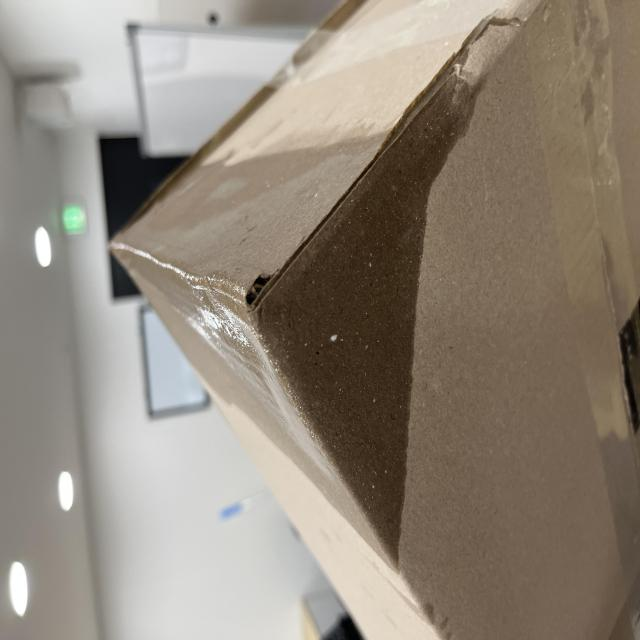wet: (51, 144, 416, 609)
